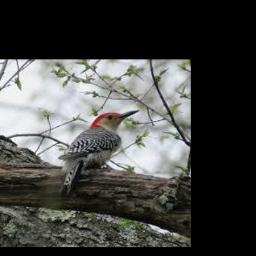Woodpecker: (59, 109, 140, 195)
